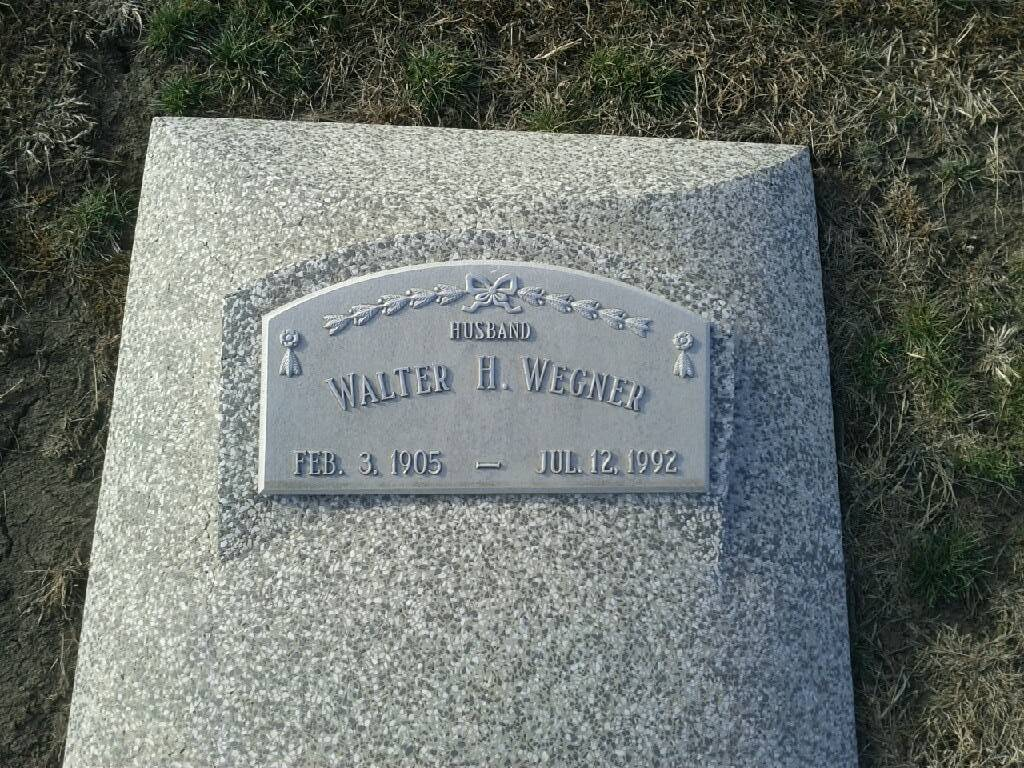flat: (63, 115, 860, 768)
